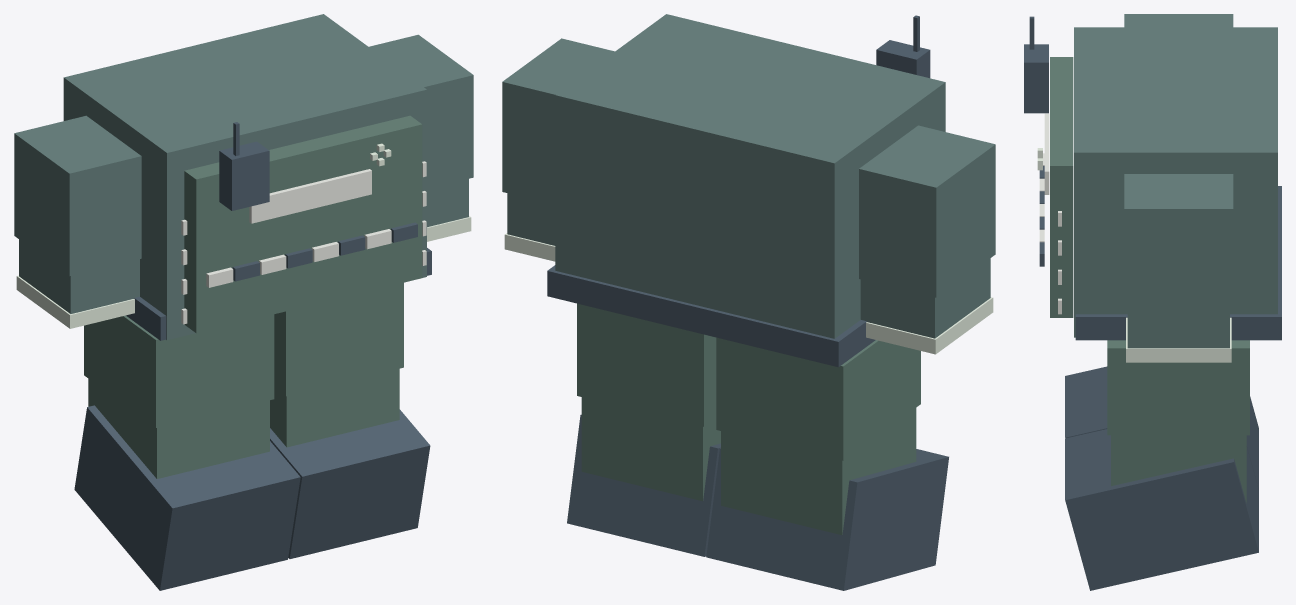
Rendered from police-emerald.glb.
3 views of the same model, side by side, from view 1: azimuth 30°, elevation 25°; view 2: azimuth 150°, elevation 25°; view 3: azimuth 270°, elevation 25° (orthographic). The views are drawn at different scales.
Parts seen in each view (by area): view 1: jacket, duty-vest, shoe-Right, upper-sleeve-Right, trouser-Right, shoe-Left, trouser-Left, lower-trouser-Right, upper-sleeve-Left, lower-trouser-Left, lower-sleeve-Right, vest-label (+5 smaller); view 2: jacket, upper-sleeve-Right, shoe-Right, trouser-Right, trouser-Left, lower-trouser-Right, lower-trouser-Left, duty-belt, upper-sleeve-Left, shoe-Left, lower-sleeve-Right, cuff-Right (+3 smaller); view 3: jacket, shoe-Left, upper-sleeve-Left, trouser-Left, duty-vest, lower-trouser-Left, lower-sleeve-Left, shoe-Right, duty-belt, radio, cuff-Left, upper-sleeve-Right (+1 smaller).
Boxes of the visible parts, <box> form: jacket: <box>63,14,426,340</box>; duty-vest: <box>184,115,422,333</box>; shoe-Right: <box>74,405,300,590</box>; upper-sleeve-Right: <box>14,115,141,276</box>; trouser-Right: <box>84,314,274,427</box>; shoe-Left: <box>270,409,430,558</box>; trouser-Left: <box>274,282,403,396</box>; lower-trouser-Right: <box>88,379,269,478</box>; upper-sleeve-Left: <box>369,34,473,188</box>; lower-trouser-Left: <box>270,368,399,447</box>; lower-sleeve-Right: <box>19,239,139,313</box>; vest-label: <box>249,169,371,223</box>; jacket: <box>555,14,945,338</box>; upper-sleeve-Right: <box>859,125,995,297</box>; shoe-Right: <box>706,448,948,590</box>; trouser-Right: <box>716,337,920,460</box>; trouser-Left: <box>577,303,716,426</box>; lower-trouser-Right: <box>721,408,916,534</box>; lower-trouser-Left: <box>581,397,720,501</box>; duty-belt: <box>547,265,875,367</box>; upper-sleeve-Left: <box>502,38,614,204</box>; shoe-Left: <box>567,414,720,556</box>; lower-sleeve-Right: <box>860,258,990,338</box>; cuff-Right: <box>866,297,993,354</box>; jacket: <box>1074,27,1277,337</box>; shoe-Left: <box>1065,429,1258,590</box>; upper-sleeve-Left: <box>1124,174,1233,309</box>; trouser-Left: <box>1107,340,1249,435</box>; duty-vest: <box>1050,57,1073,317</box>; lower-trouser-Left: <box>1111,435,1246,503</box>; lower-sleeve-Left: <box>1127,310,1229,348</box>; shoe-Right: <box>1065,366,1258,489</box>; duty-belt: <box>1075,186,1281,340</box>; radio: <box>1024,44,1048,113</box>; cuff-Left: <box>1126,317,1231,362</box>; upper-sleeve-Right: <box>1124,14,1233,27</box>.
Bounding box in the file's own units: 1.07 × 1.21 × 0.6.
